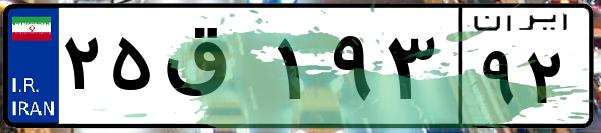1: (270, 28, 330, 110)
2: (57, 26, 110, 100), (525, 38, 570, 115)
3: (385, 28, 445, 110)
5: (110, 28, 158, 98)
9: (330, 28, 385, 110), (475, 38, 525, 113)
ق: (158, 20, 270, 120)
